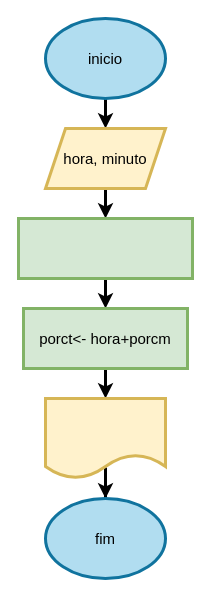
The diagram is 211 pixels wide and 597 high, and some of its shapes have lost their labels. Here are the shapes that lost their labels. From the top down, the centre of each, then its label:
the point at 105,248: porcm<- minuto/60
the point at 105,438: porct
